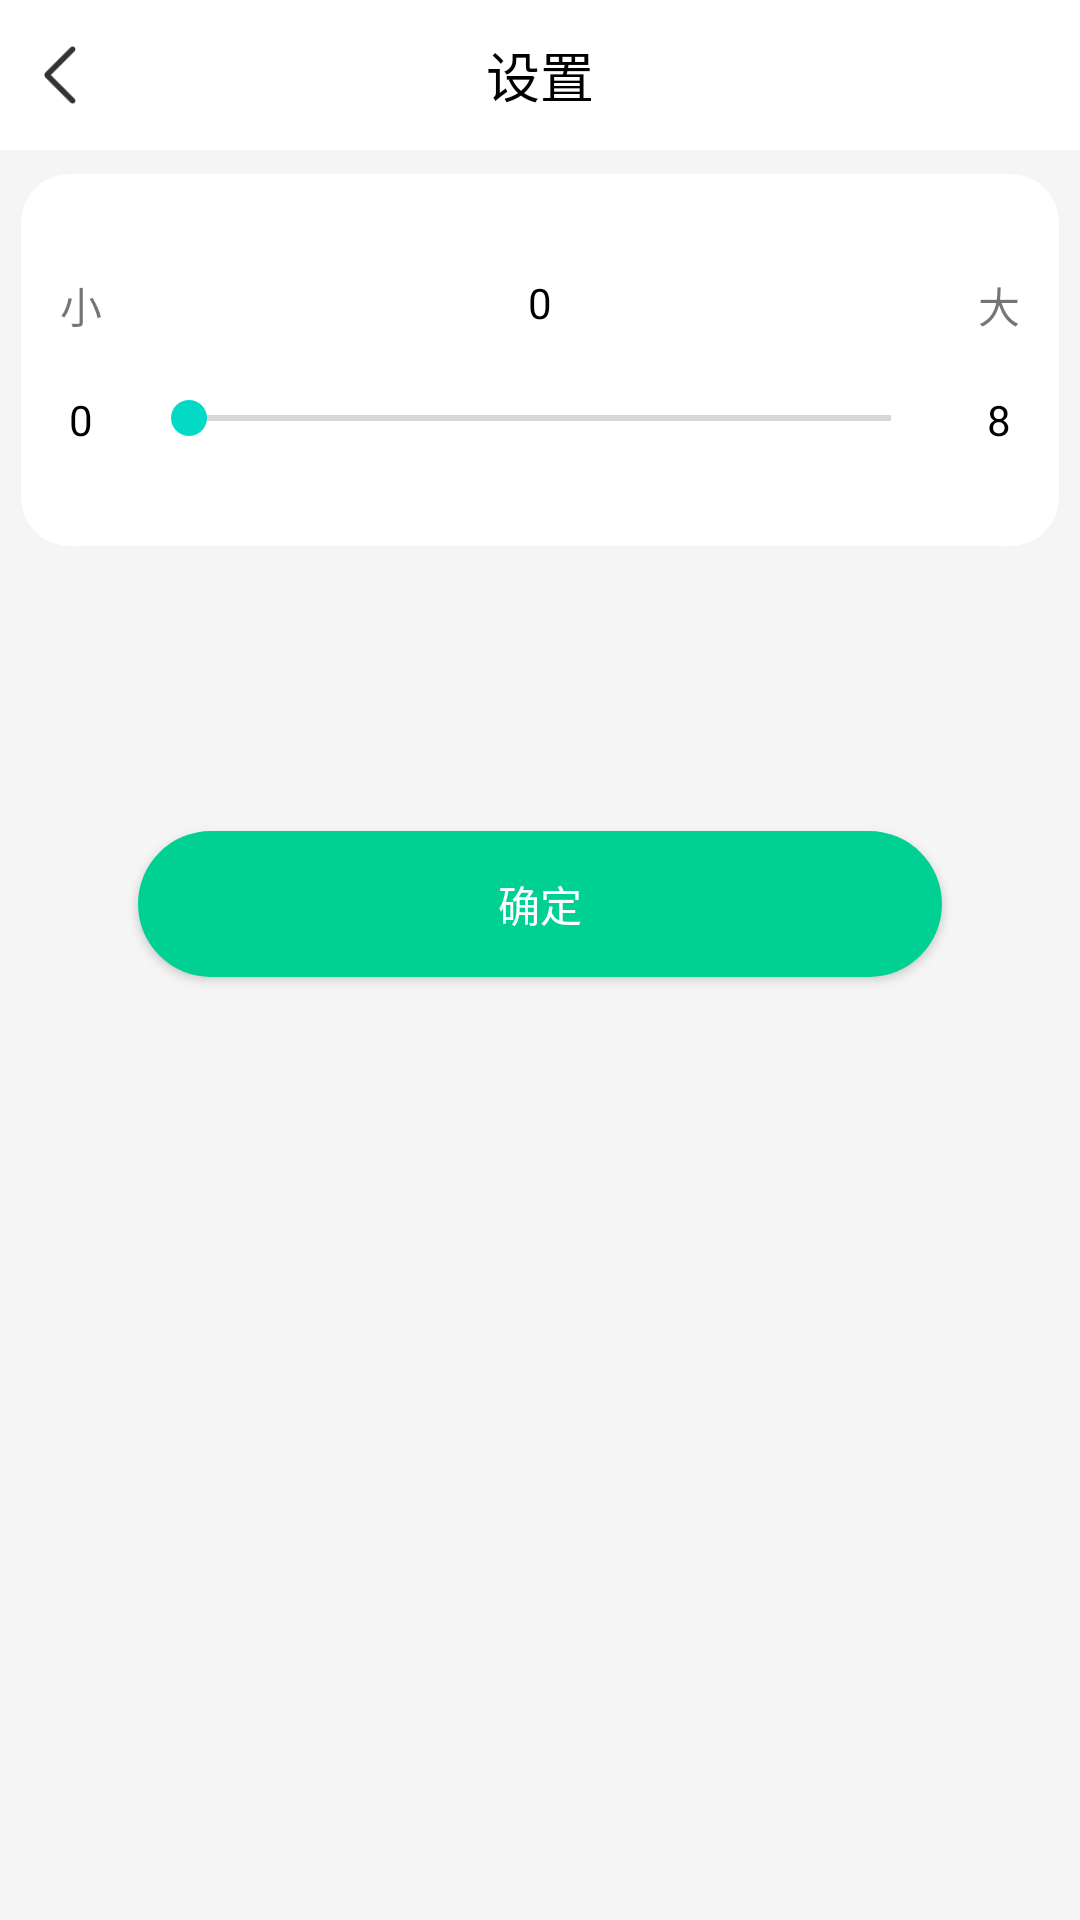

Named icons in this screenshot (1080w x 1920h) and their centers, [x,y]:
back: [60,75]
